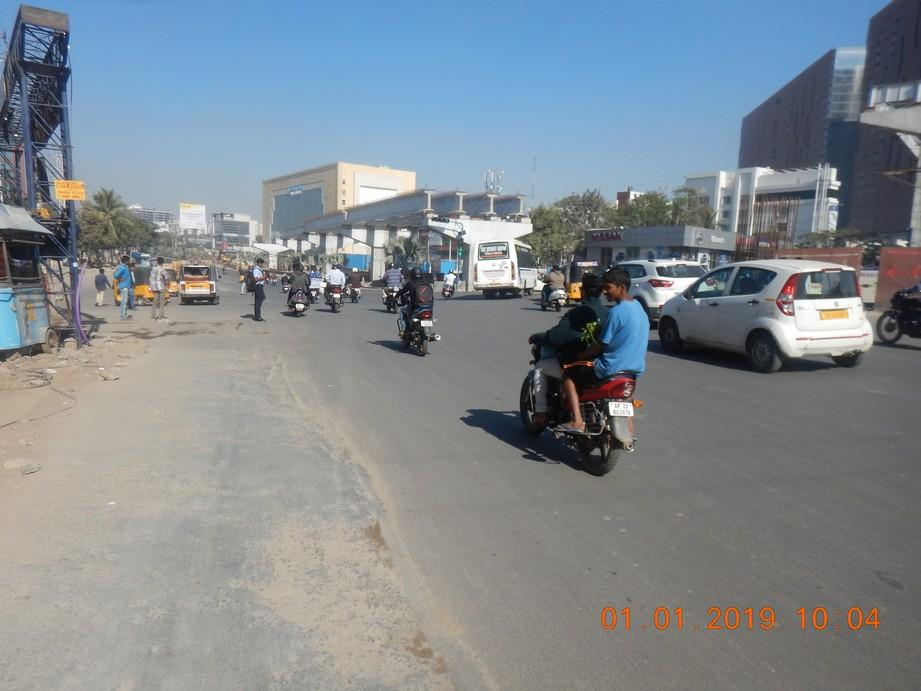plate: (608, 401, 634, 417)
